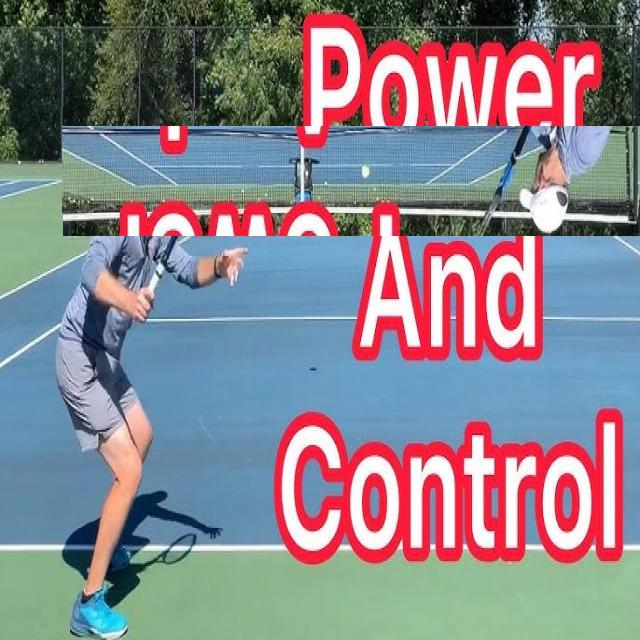court: (0, 213, 640, 600)
net: (63, 126, 640, 237)
player: (59, 107, 250, 640)
